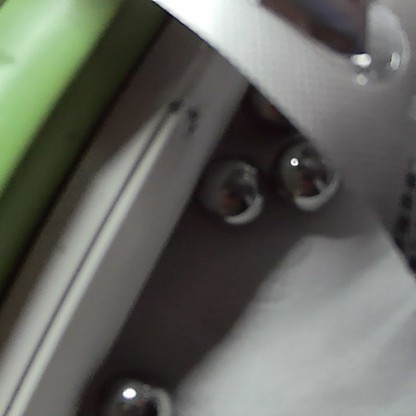ironball: (87, 353, 179, 414), (281, 138, 345, 208), (198, 160, 264, 219)
